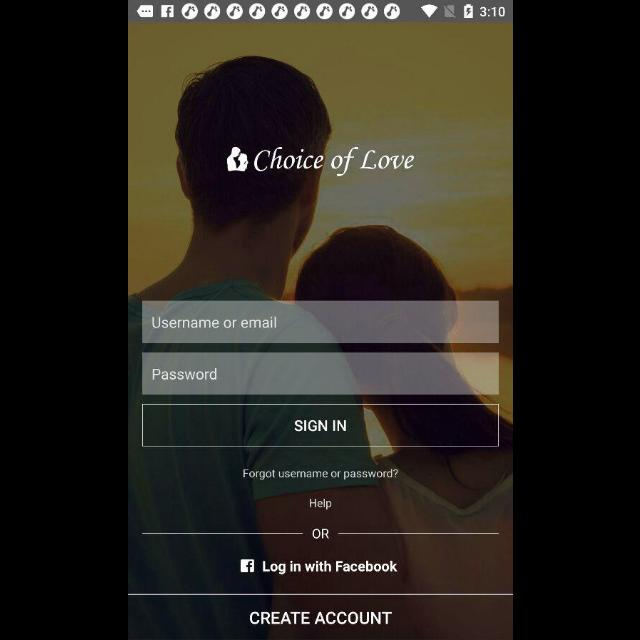backgroundimage: (128, 24, 512, 640)
icon: (240, 559, 254, 573)
image: (226, 147, 414, 177)
input: (142, 301, 498, 343), (142, 353, 498, 395)
text: (262, 561, 398, 575), (243, 468, 397, 479), (152, 316, 276, 328), (152, 369, 216, 381), (309, 498, 331, 510), (312, 528, 328, 540)
textbutton: (128, 594, 512, 640), (142, 405, 498, 447)
uppertaskbar: (128, 1, 512, 23)
